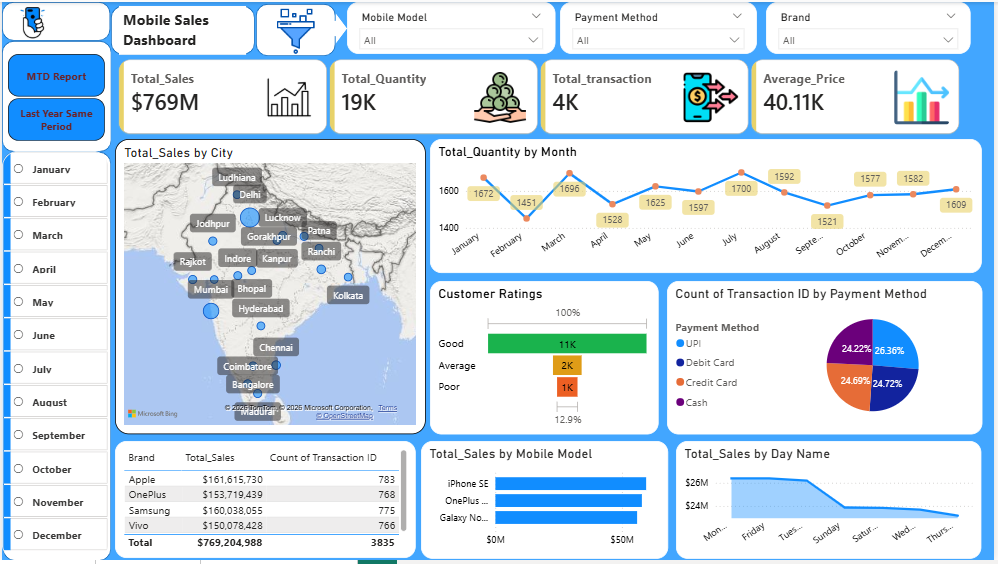

This screenshot's page, from the dashboard's own definition file:
{"tool":"powerbi","page":{"name":"Dashboard","canvas":[1280,720],"ordinal":0},"visuals":[{"type":"shape","box":[0,0,139.8,49.9],"z":0},{"type":"cardVisual","fields":{"Data":["Sales_data.Total_Sales","Sales_data.Total_Quantity","Sales_data.Total_transaction","Sales_data.Average_Price"]},"box":[124.7,66.6,1139.5,110.6],"z":1000},{"type":"image","box":[0,0,79.9,57.1],"z":2000},{"type":"shape","box":[0,50.1,141.2,143],"z":3000},{"type":"shape","box":[1.8,193.1,139.4,527.4],"z":4000},{"type":"advancedSlicerVisual","fields":{"Values":["Custom_Calendar.Date.Variation.Date Hierarchy.Month"]},"box":[0,192.6,138.4,528],"z":5000},{"type":"slicer","fields":{"Values":["Sales_data.Mobile Model"]},"box":[445,0,269.3,66.6],"z":6000},{"type":"slicer","fields":{"Values":["Sales_data.Payment Method"]},"box":[720.6,0,254,67.1],"z":7000},{"type":"slicer","fields":{"Values":["Sales_data.Brand"]},"box":[986,0,264,67.1],"z":8000},{"type":"shape","box":[328.2,2.9,102.7,67.1],"z":9000},{"type":"shape","box":[415.3,14.3,30,40],"z":10000},{"type":"image","box":[329.6,7.1,99.9,59.9],"z":11000},{"type":"shape","box":[141.3,5.7,185.5,62.8],"z":12000},{"type":"textbox","box":[151.3,5.7,164.1,62.8],"z":13000},{"type":"map","fields":{"Category":["Sales_data.City"],"Size":["Sales_data.Total_Sales"]},"box":[146,177.2,401.1,381.3],"z":14000},{"type":"lineChart","fields":{"Category":["Custom_Calendar.Date.Variation.Date Hierarchy.Month"],"Y":["Sales_data.Total_Quantity"]},"box":[552.2,176.9,712.1,172.7],"z":15000},{"type":"funnel","title":"Customer Ratings","fields":{"Y":["Sum(Sales_data.Customer Ratings)"],"Category":["Sales_data.Customer Ratings 1"]},"box":[552.2,359.6,295.4,198.4],"z":16000},{"type":"pieChart","fields":{"Y":["CountNonNull(Sales_data.Transaction ID)"],"Category":["Sales_data.Payment Method"]},"box":[857.6,359.6,406.7,198.4],"z":17000},{"type":"barChart","fields":{"Y":["Sales_data.Total_Sales"],"Category":["Sales_data.Mobile Model"]},"box":[540,566.9,318.9,151.7],"z":18000},{"type":"stackedAreaChart","fields":{"Category":["Custom_Calendar.Day Name"],"Y":["Sales_data.Total_Sales"]},"box":[870.2,566.9,394,151.7],"z":19000},{"type":"tableEx","fields":{"Values":["Sales_data.Brand","Sales_data.Total_Sales","CountNonNull(Sales_data.Transaction ID)"]},"box":[145.6,566.5,388.1,151.3],"z":20000},{"type":"pageNavigator","box":[7.7,67.1,125.2,113.5],"z":21000}]}

Visuals, with their boxes in screenshot pixels (x1, y1, x2, y2), scaled from the page's 1280x720 canvas onto the 998x564 screenshot:
shape: 0:0:109:39
cardVisual - Sales_data.Total_Sales x Sales_data.Total_Quantity: 97:52:986:139
image: 0:0:62:45
shape: 0:39:110:151
shape: 1:151:110:563
advancedSlicerVisual - Custom_Calendar.Date.Variation.Date Hierarchy.Month: 0:151:108:563
slicer - Sales_data.Mobile Model: 347:0:557:52
slicer - Sales_data.Payment Method: 562:0:760:53
slicer - Sales_data.Brand: 769:0:975:53
shape: 256:2:336:55
shape: 324:11:347:43
image: 257:6:335:52
shape: 110:4:255:54
textbox: 118:4:246:54
map - Sales_data.City x Sales_data.Total_Sales: 114:139:427:437
lineChart - Custom_Calendar.Date.Variation.Date Hierarchy.Month x Sales_data.Total_Quantity: 431:139:986:274
"Customer Ratings" funnel: 431:282:661:437
pieChart - CountNonNull(Sales_data.Transaction ID) x Sales_data.Payment Method: 669:282:986:437
barChart - Sales_data.Total_Sales x Sales_data.Mobile Model: 421:444:670:563
stackedAreaChart - Custom_Calendar.Day Name x Sales_data.Total_Sales: 678:444:986:563
tableEx - Sales_data.Brand x Sales_data.Total_Sales: 114:444:416:562
pageNavigator: 6:53:104:141
